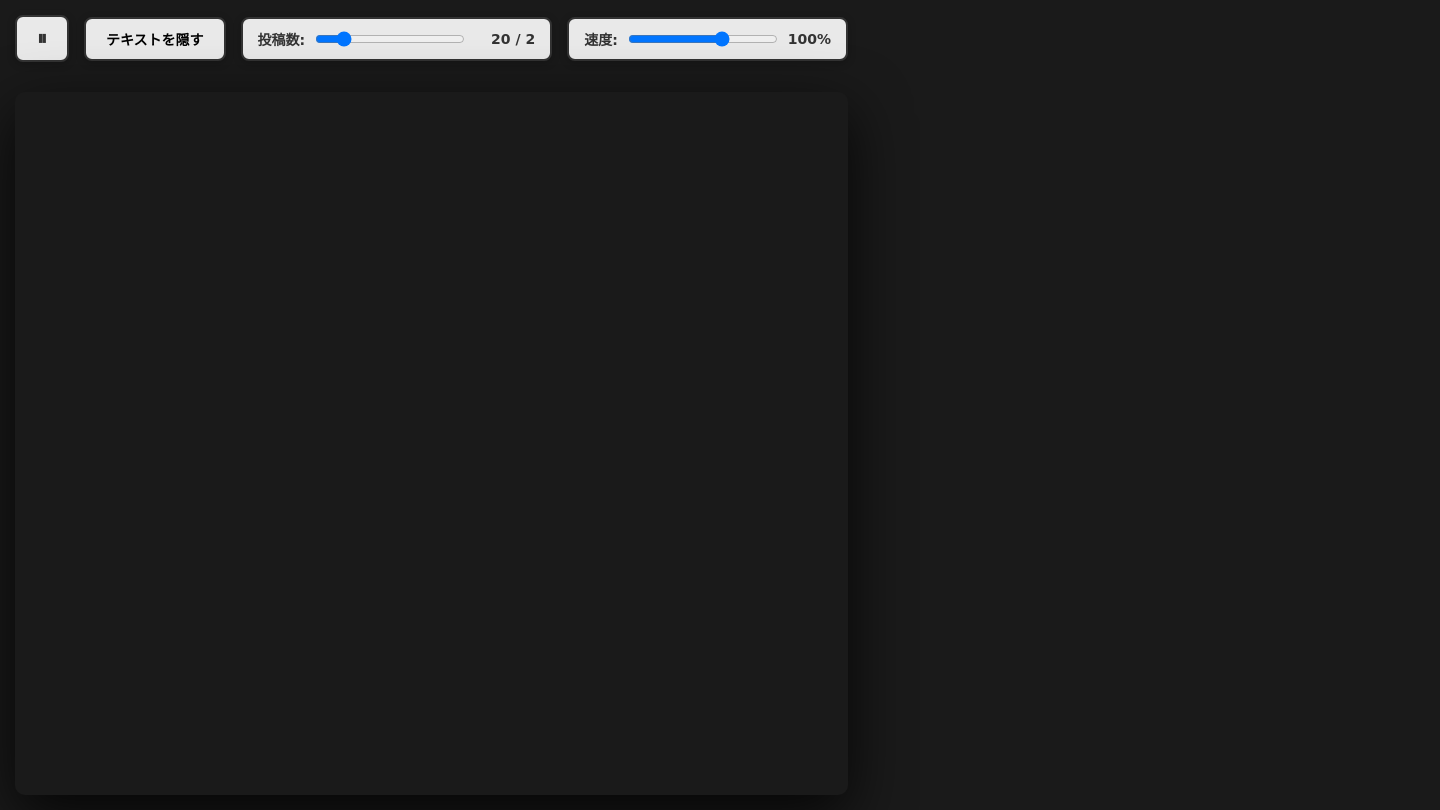
Test case: CreativeWall - Download Feature Integration › Error handling › should display timeout error after 10 seconds
Note: Pause the board
Click the button "⏸". click: click(42, 38)
box: [15,15,69,62]
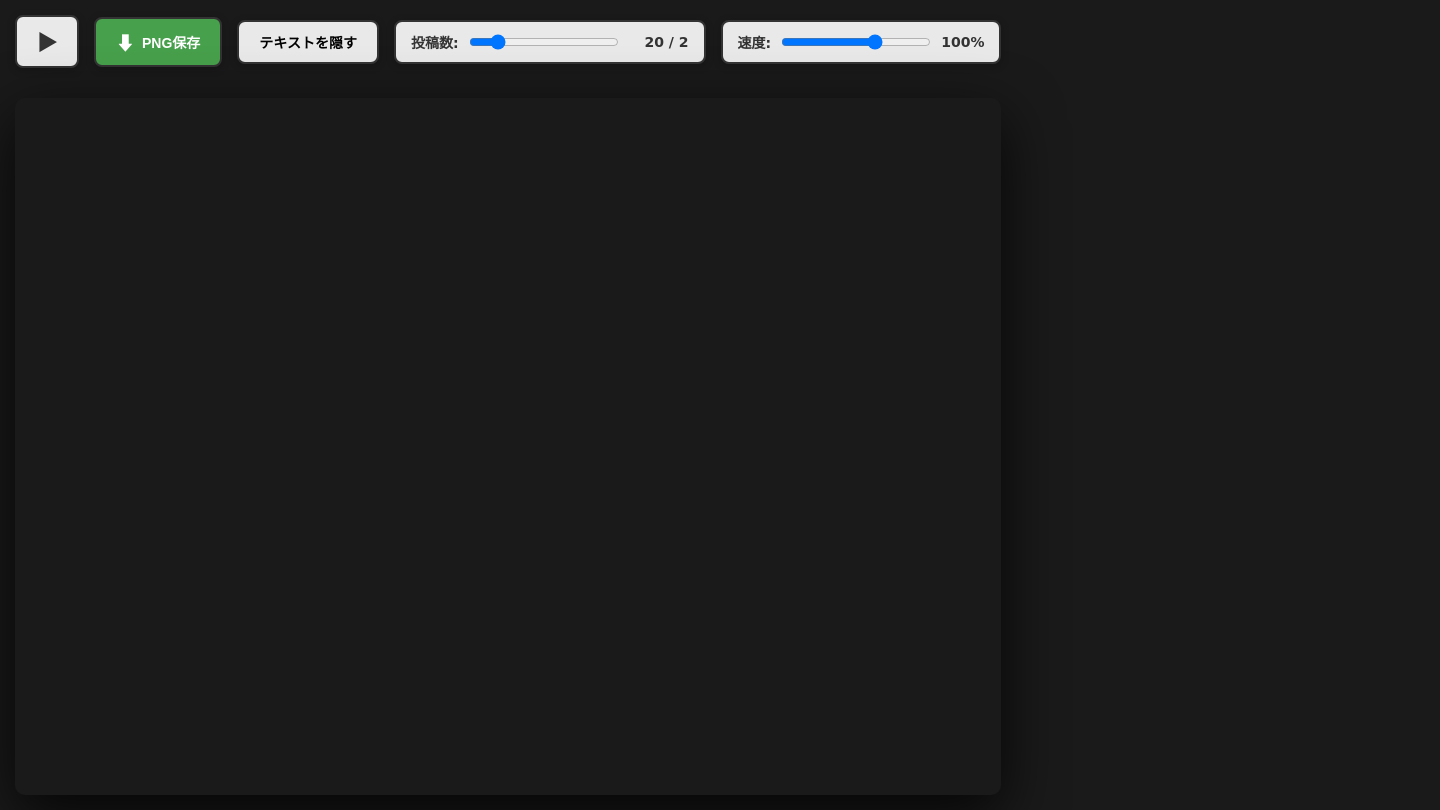
Note: Try to download
Click the button with class "download-button". click: click(158, 42)
box: [94,16,222,66]
Wait 10000 ms
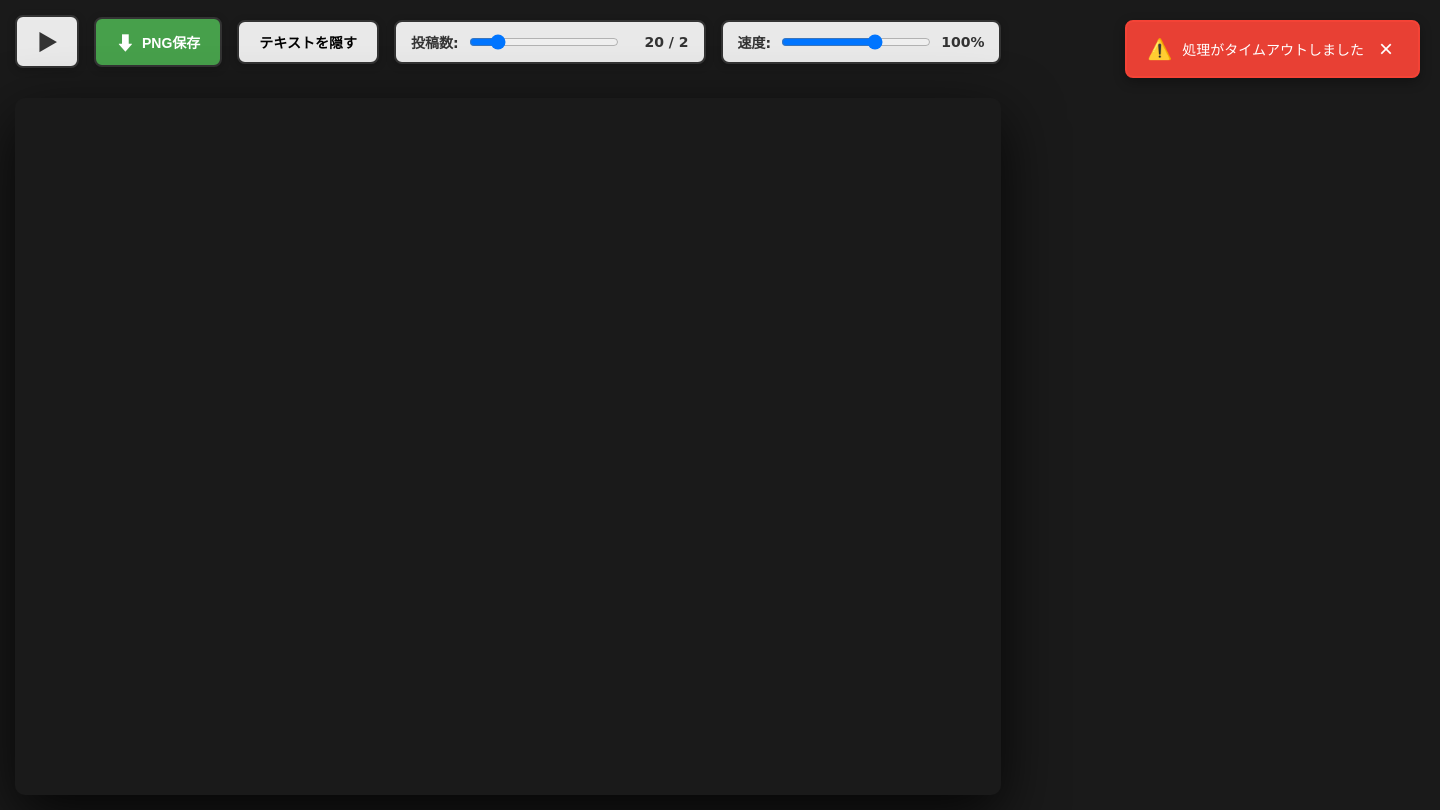
Now the message "⚠️ 処理がタイムアウトしました ×" is shown, box [1125,20,1420,78]
Now the message with class "error-notification" shows "処理がタイムアウトしました", box [1182,42,1364,58]
